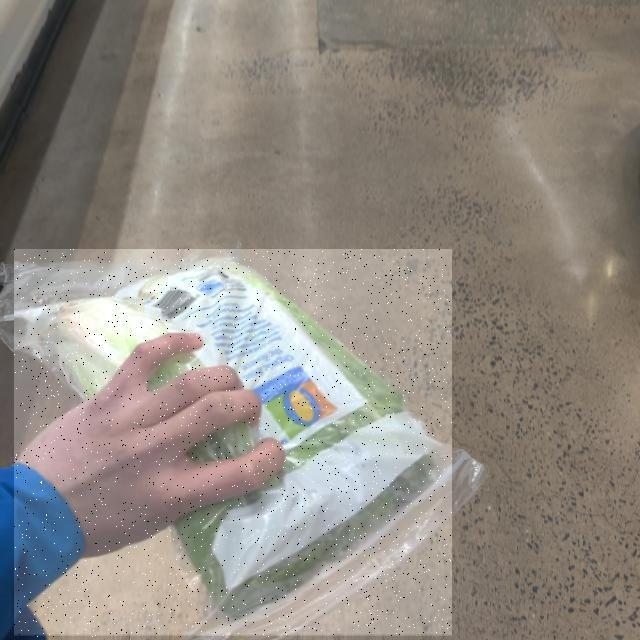Lettuce: (14, 250, 452, 638)
